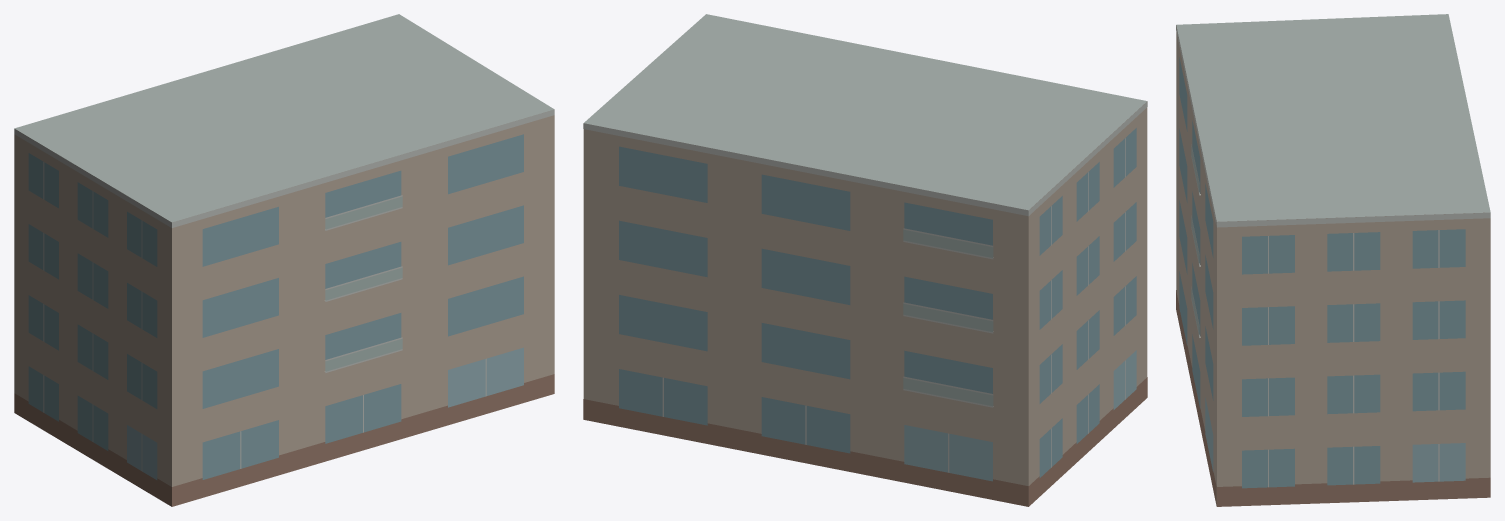
The model's file is survey-upis-32650298.glb.
The picture shows the model from 3 angles, left to right: view 1: azimuth 30°, elevation 25°; view 2: azimuth 150°, elevation 25°; view 3: azimuth 270°, elevation 25°; orthographic projection. The views are drawn at different scales.
Visible parts, largest first — view 1: survey-upis-32650298.tmp; view 2: survey-upis-32650298.tmp; view 3: survey-upis-32650298.tmp.
Part boxes in pixels (bbox=[...]): survey-upis-32650298.tmp: bbox=[14, 14, 554, 506]; survey-upis-32650298.tmp: bbox=[583, 14, 1147, 506]; survey-upis-32650298.tmp: bbox=[1176, 14, 1490, 506].
Bounding box in the file's own units: 19.08 × 12.2 × 12.21.
